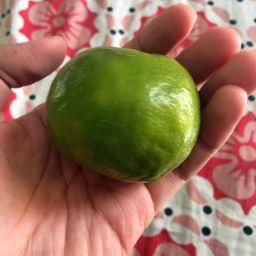Unripe: (45, 44, 202, 183)
